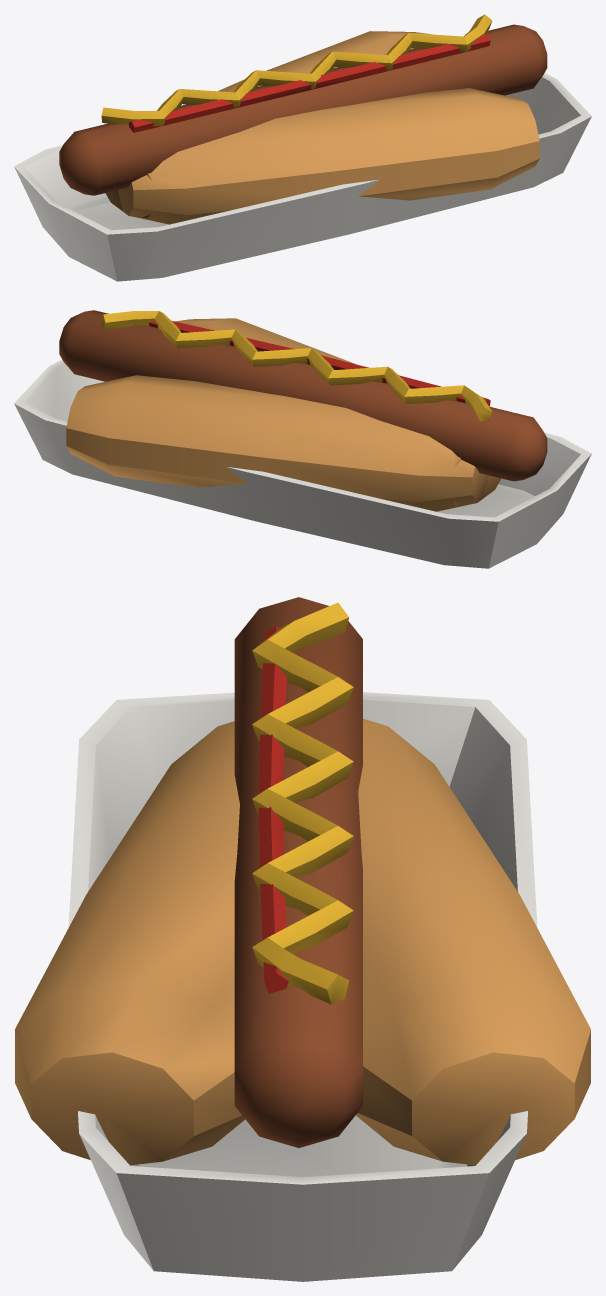
The model's file is hotDog.glb.
The picture shows the model from 3 angles, top to bottom: view 1: azimuth 30°, elevation 25°; view 2: azimuth 150°, elevation 25°; view 3: azimuth 270°, elevation 25°; orthographic projection. The views are drawn at different scales.
Visible parts, largest first — view 1: hotDog; view 2: hotDog; view 3: hotDog.
Part boxes in pixels (box(x1,y1,x2,y2)): hotDog: box(14, 14, 591, 281); hotDog: box(14, 310, 591, 568); hotDog: box(15, 597, 590, 1281).
Size of the model in its own units: 0.2 by 0.0498 by 0.0981.
